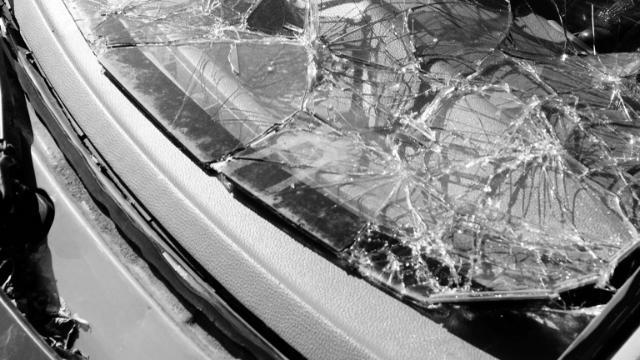Windshield: (63, 0, 640, 360)
